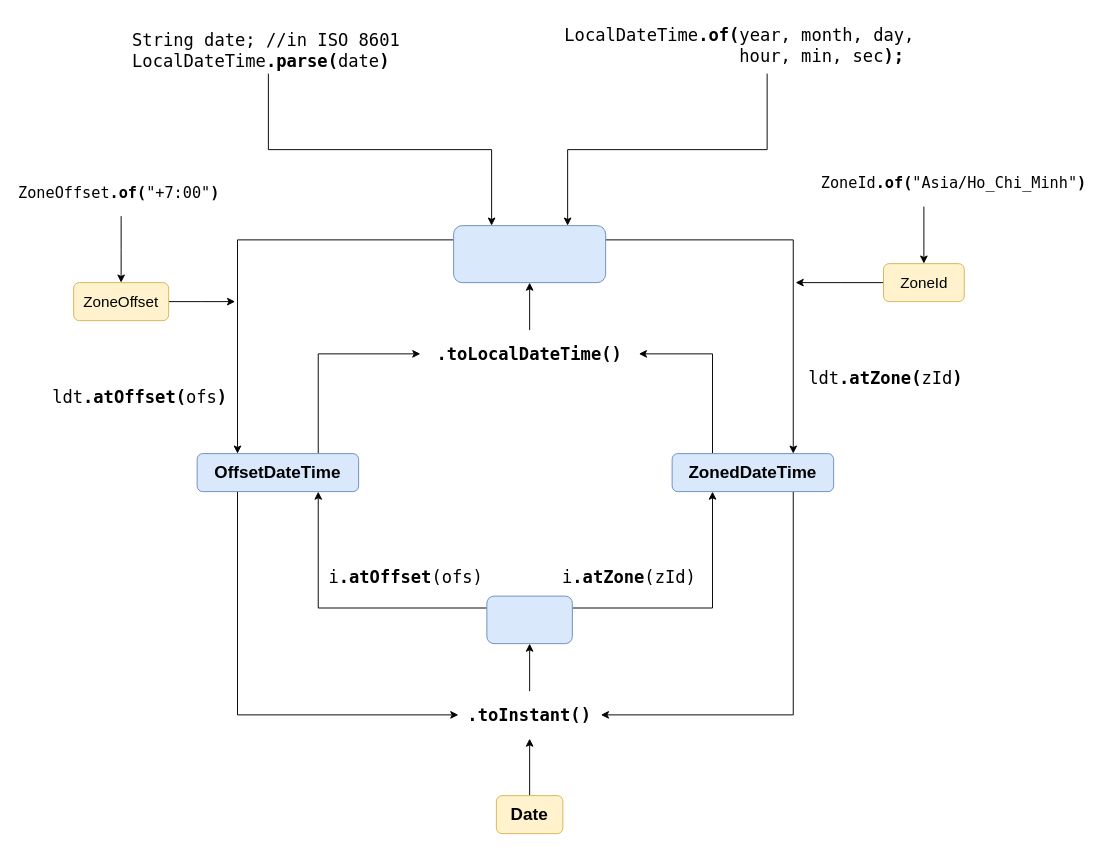
This 1102x850 diagram has some shape labels left out. The shapes that lost their labels are listed below. From the top down, each one's centre as x and y in pixels, then its label:
At (529,254): "LocalDateTime".
At (529,619): "Instant".
